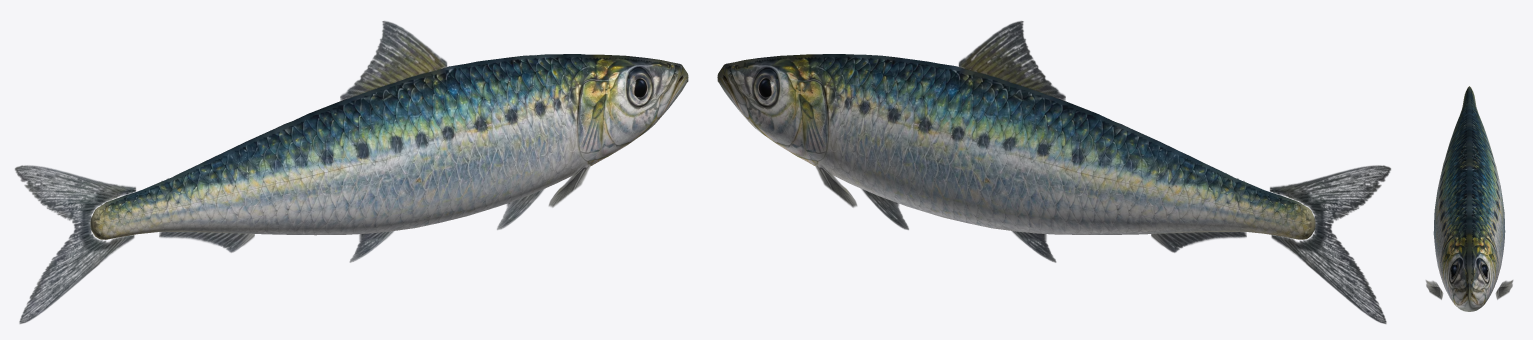
Rendered from fish-sardine.glb.
3 views of the same model, side by side, from view 1: azimuth 30°, elevation 25°; view 2: azimuth 150°, elevation 25°; view 3: azimuth 270°, elevation 25° (orthographic). The views are drawn at different scales.
Parts seen in each view (by area): view 1: Fish; view 2: Fish; view 3: Fish.
Boxes of the visible parts, <box> form: Fish: <box>15,21,688,323</box>; Fish: <box>717,21,1390,323</box>; Fish: <box>1425,86,1513,311</box>.
Size of the model in its own units: 1.15 by 0.3874 by 0.2063.
Materials: 1 (1 with a texture image).
